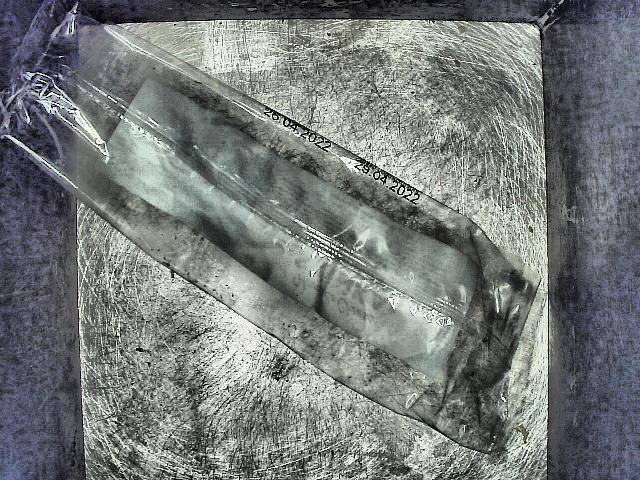Plastic: (16, 9, 542, 465)
